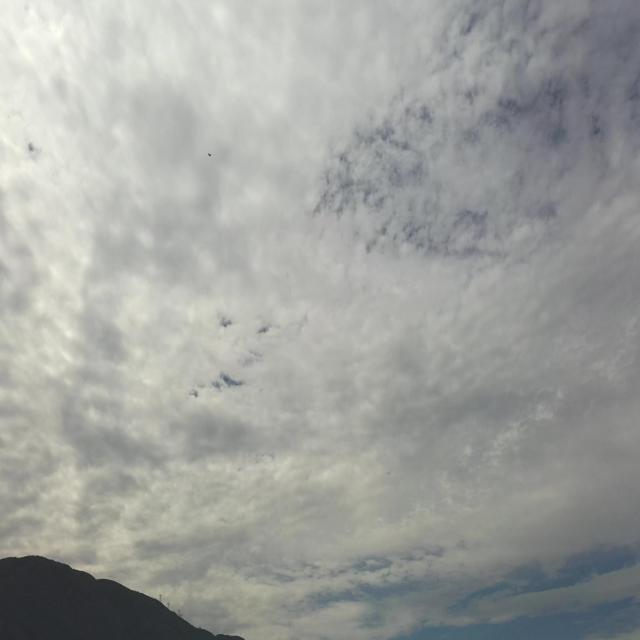Birds: (193, 147, 217, 159)
